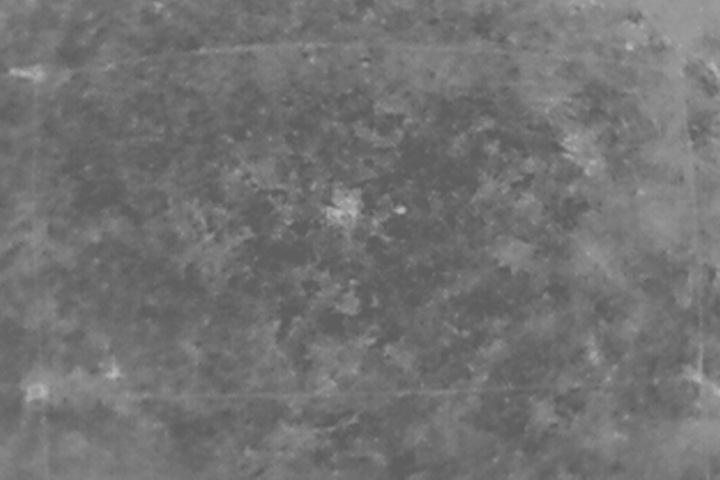landmine: (327, 194, 363, 225)
